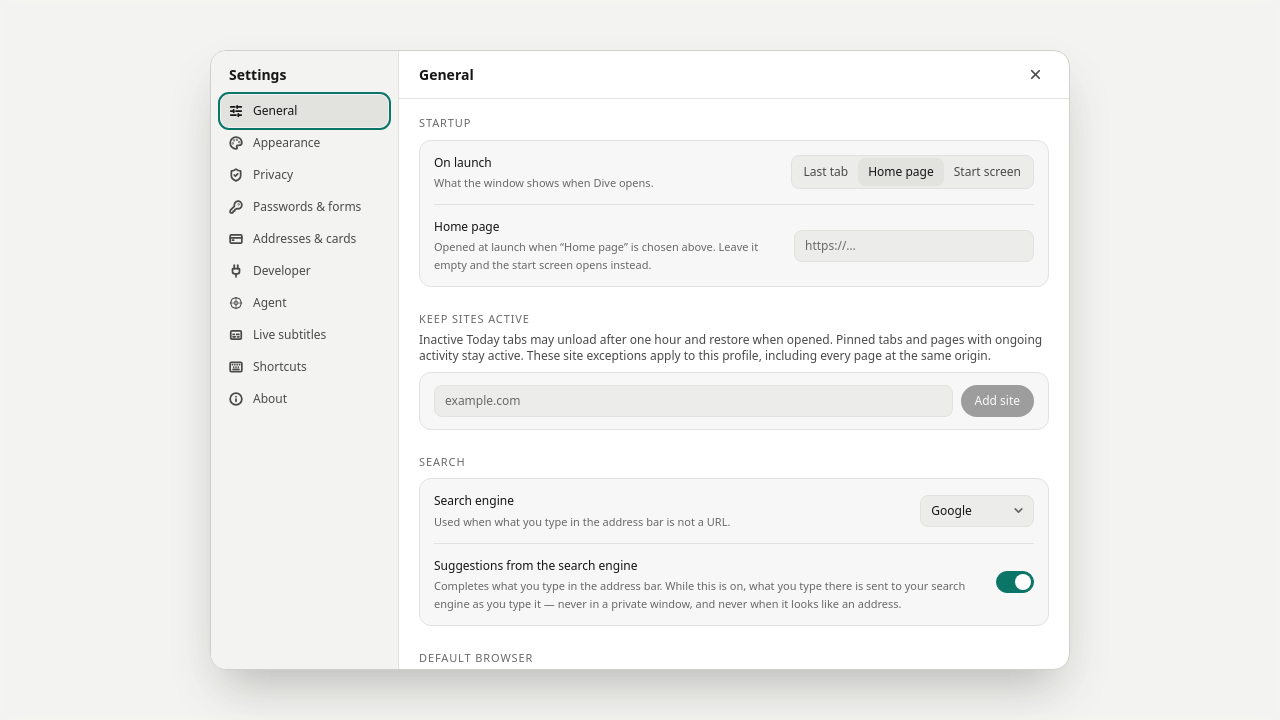
Test: Site permissions › lists remembered decisions and writes a change
Click the tab "Privacy".
click(304, 175)  # box [221, 159, 388, 191]
(page scrolled)
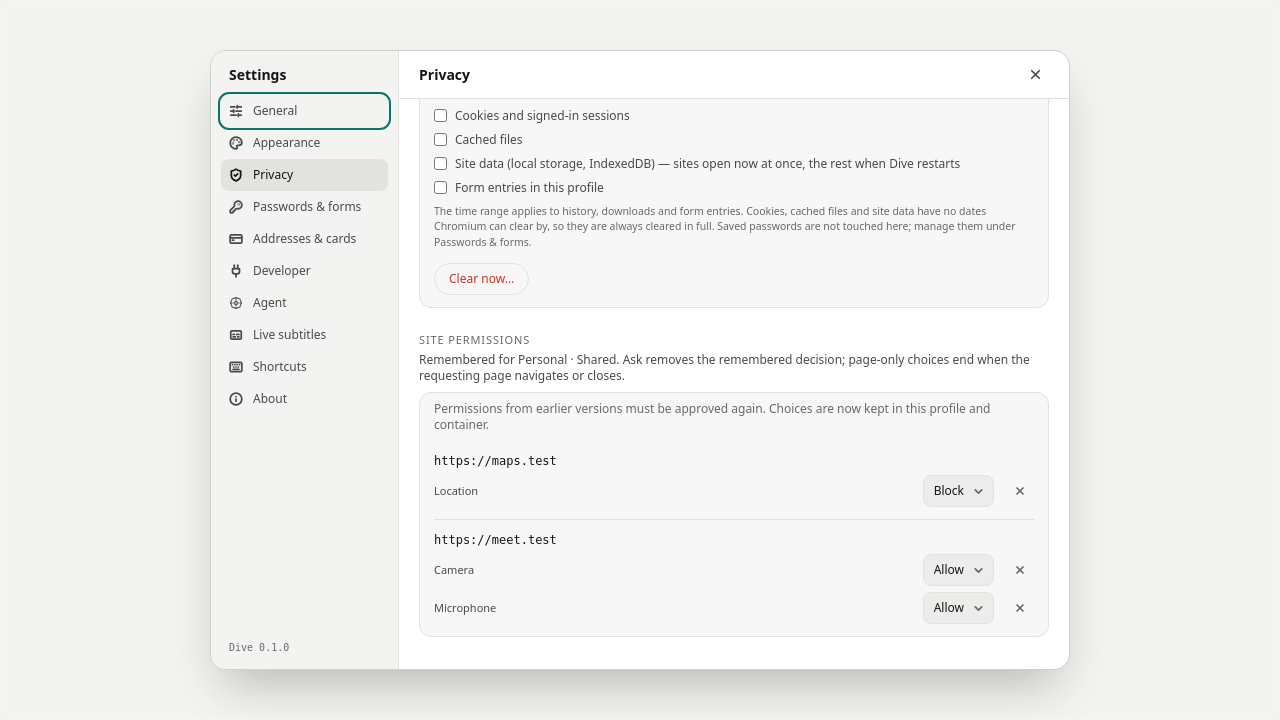
Expected: the text "https://meet.test" is shown, [434, 533, 557, 547]
Expected: the dropdown named "https://maps.test Location" reads "Block"
Click the dropdown named "https://maps.test Location".
click(958, 491)  # box [923, 475, 994, 507]
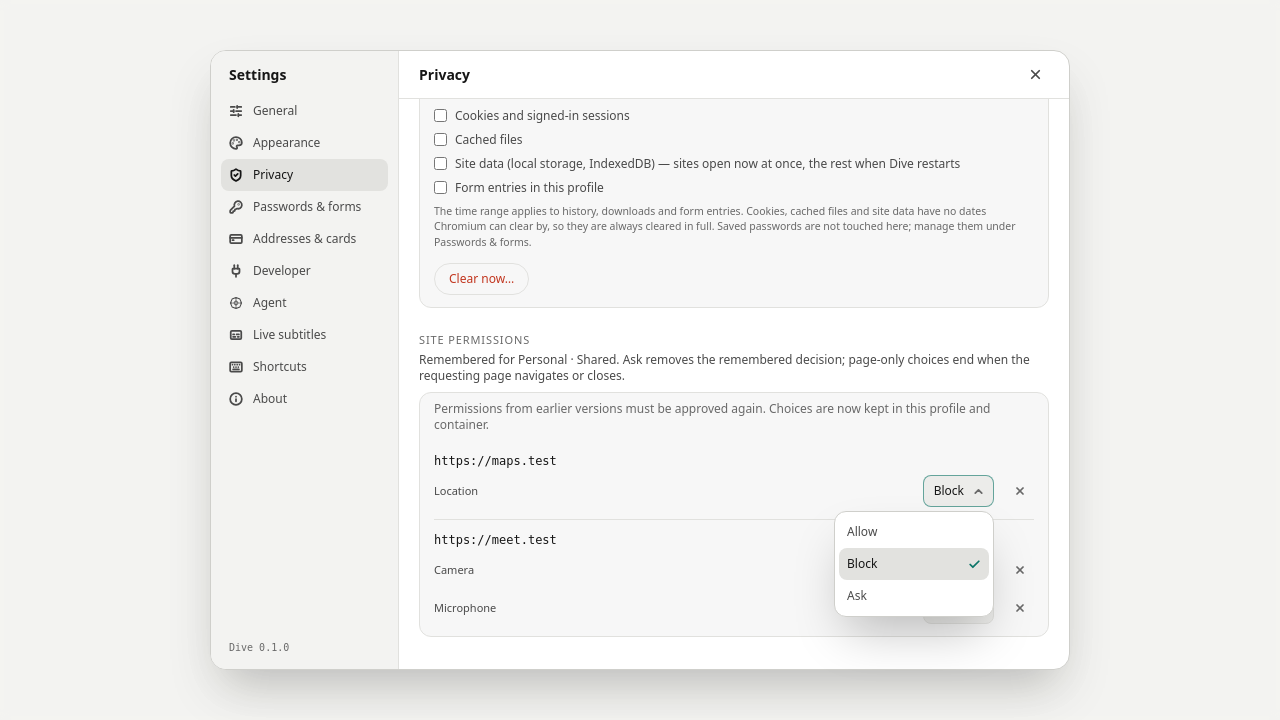
Click the option "Allow".
click(862, 532)  # box [847, 523, 877, 540]
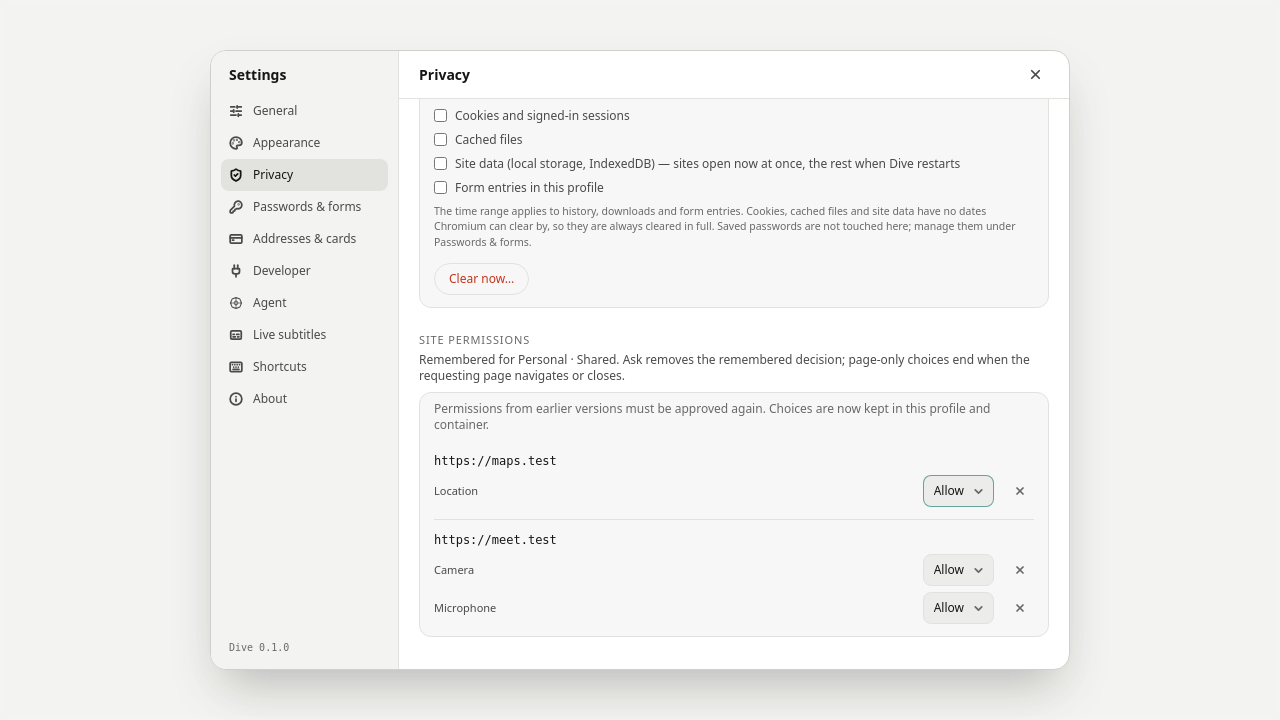
Expected: the dropdown named "https://maps.test Location" reads "Allow", [923, 475, 994, 507]
